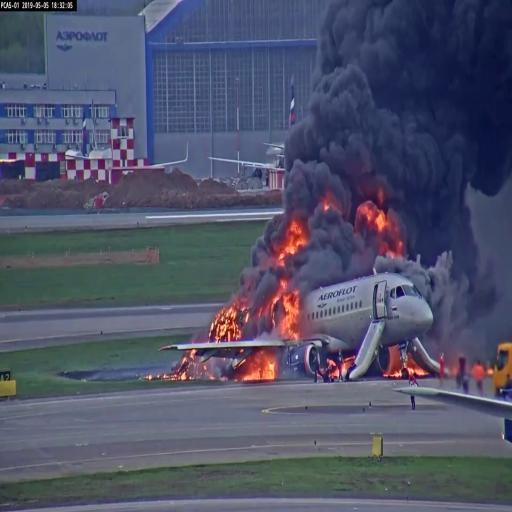fire: (272, 281, 303, 334), (209, 302, 244, 342), (280, 220, 313, 257), (238, 354, 278, 381)
smoke: (330, 6, 512, 171)
